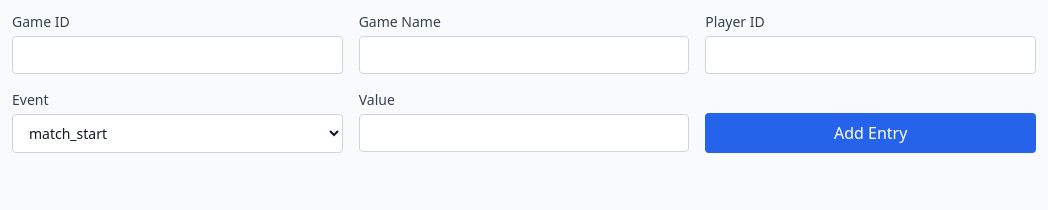
Test case: AddEntryForm › shows validation errors for empty required fields
This screenshot has width=1048, height=210.
Click the button "Add Entry": (871,133) top-left (705, 113), bottom-right (1036, 153)
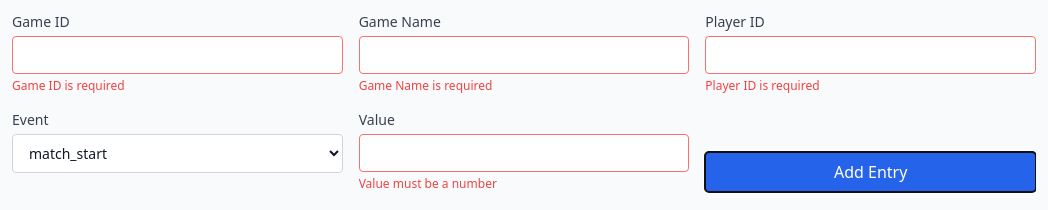
Check: the text "Game ID is required" is shown, box top-left (12, 77), bottom-right (125, 94)
